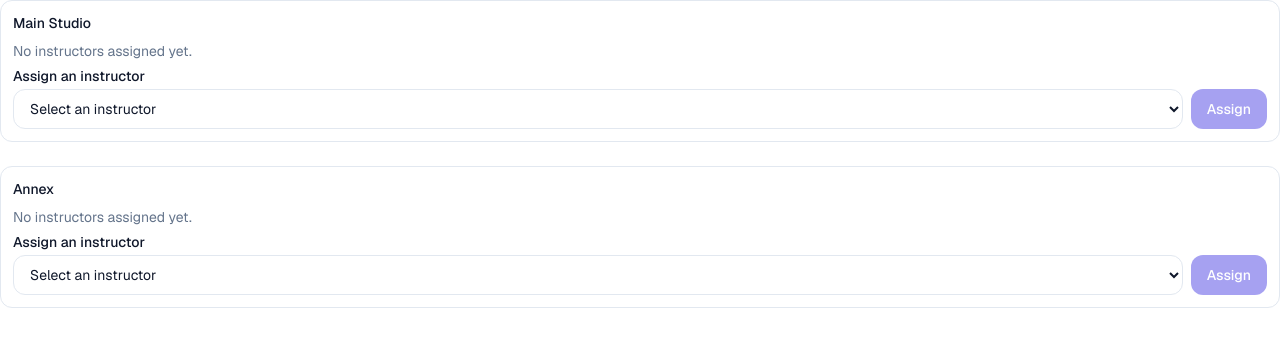
Test case: InstructorLocationSettings › surfaces the error message from a failed assignment
Select "Instructor A" in the dropdown labelled "Assign an instructor" below "Main Studio" at x=598, y=109, box x1=13 y1=89 x2=1183 y2=129
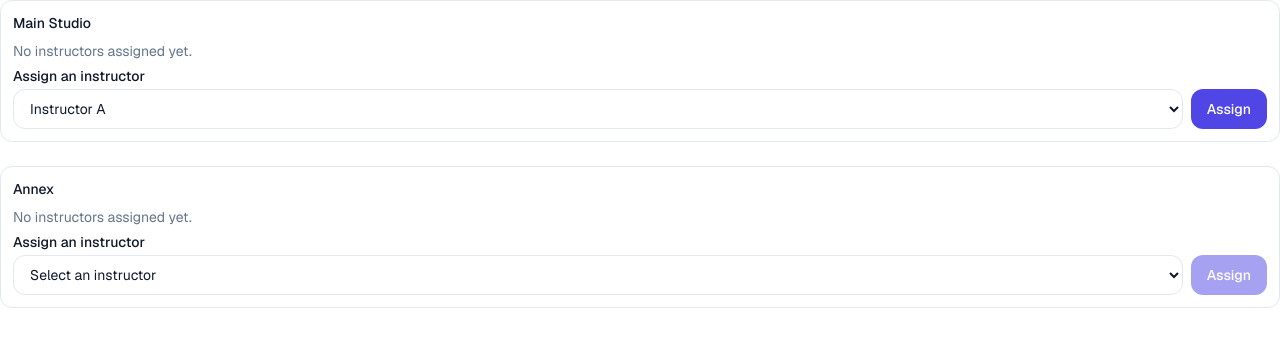
Click the 1st button "Assign" at x=1229, y=109, box x1=1191 y1=89 x2=1267 y2=129
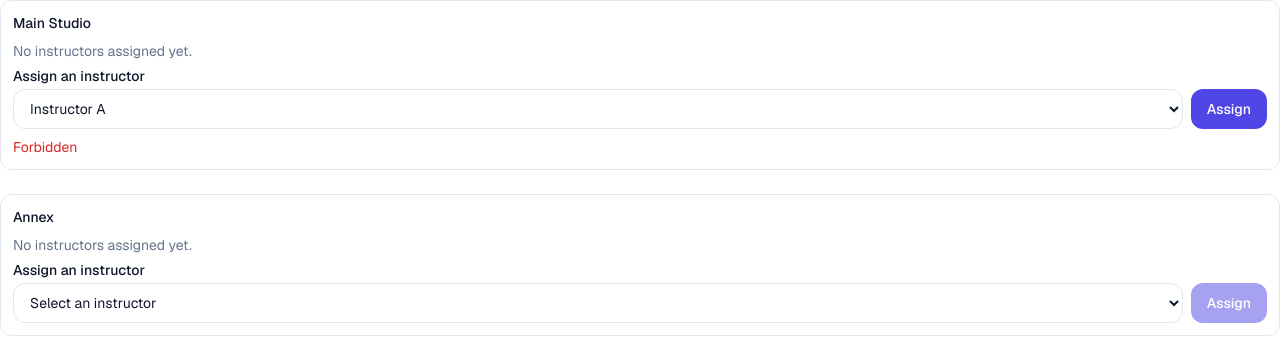
Expected: the text "Forbidden" is shown, x1=13 y1=138 x2=77 y2=156
